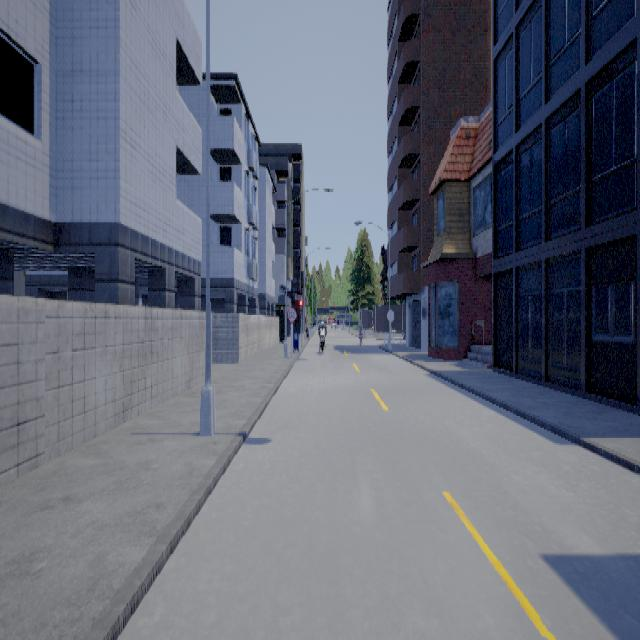red_light: (301, 296, 304, 316)
traffic_sign: (288, 305, 298, 322)
